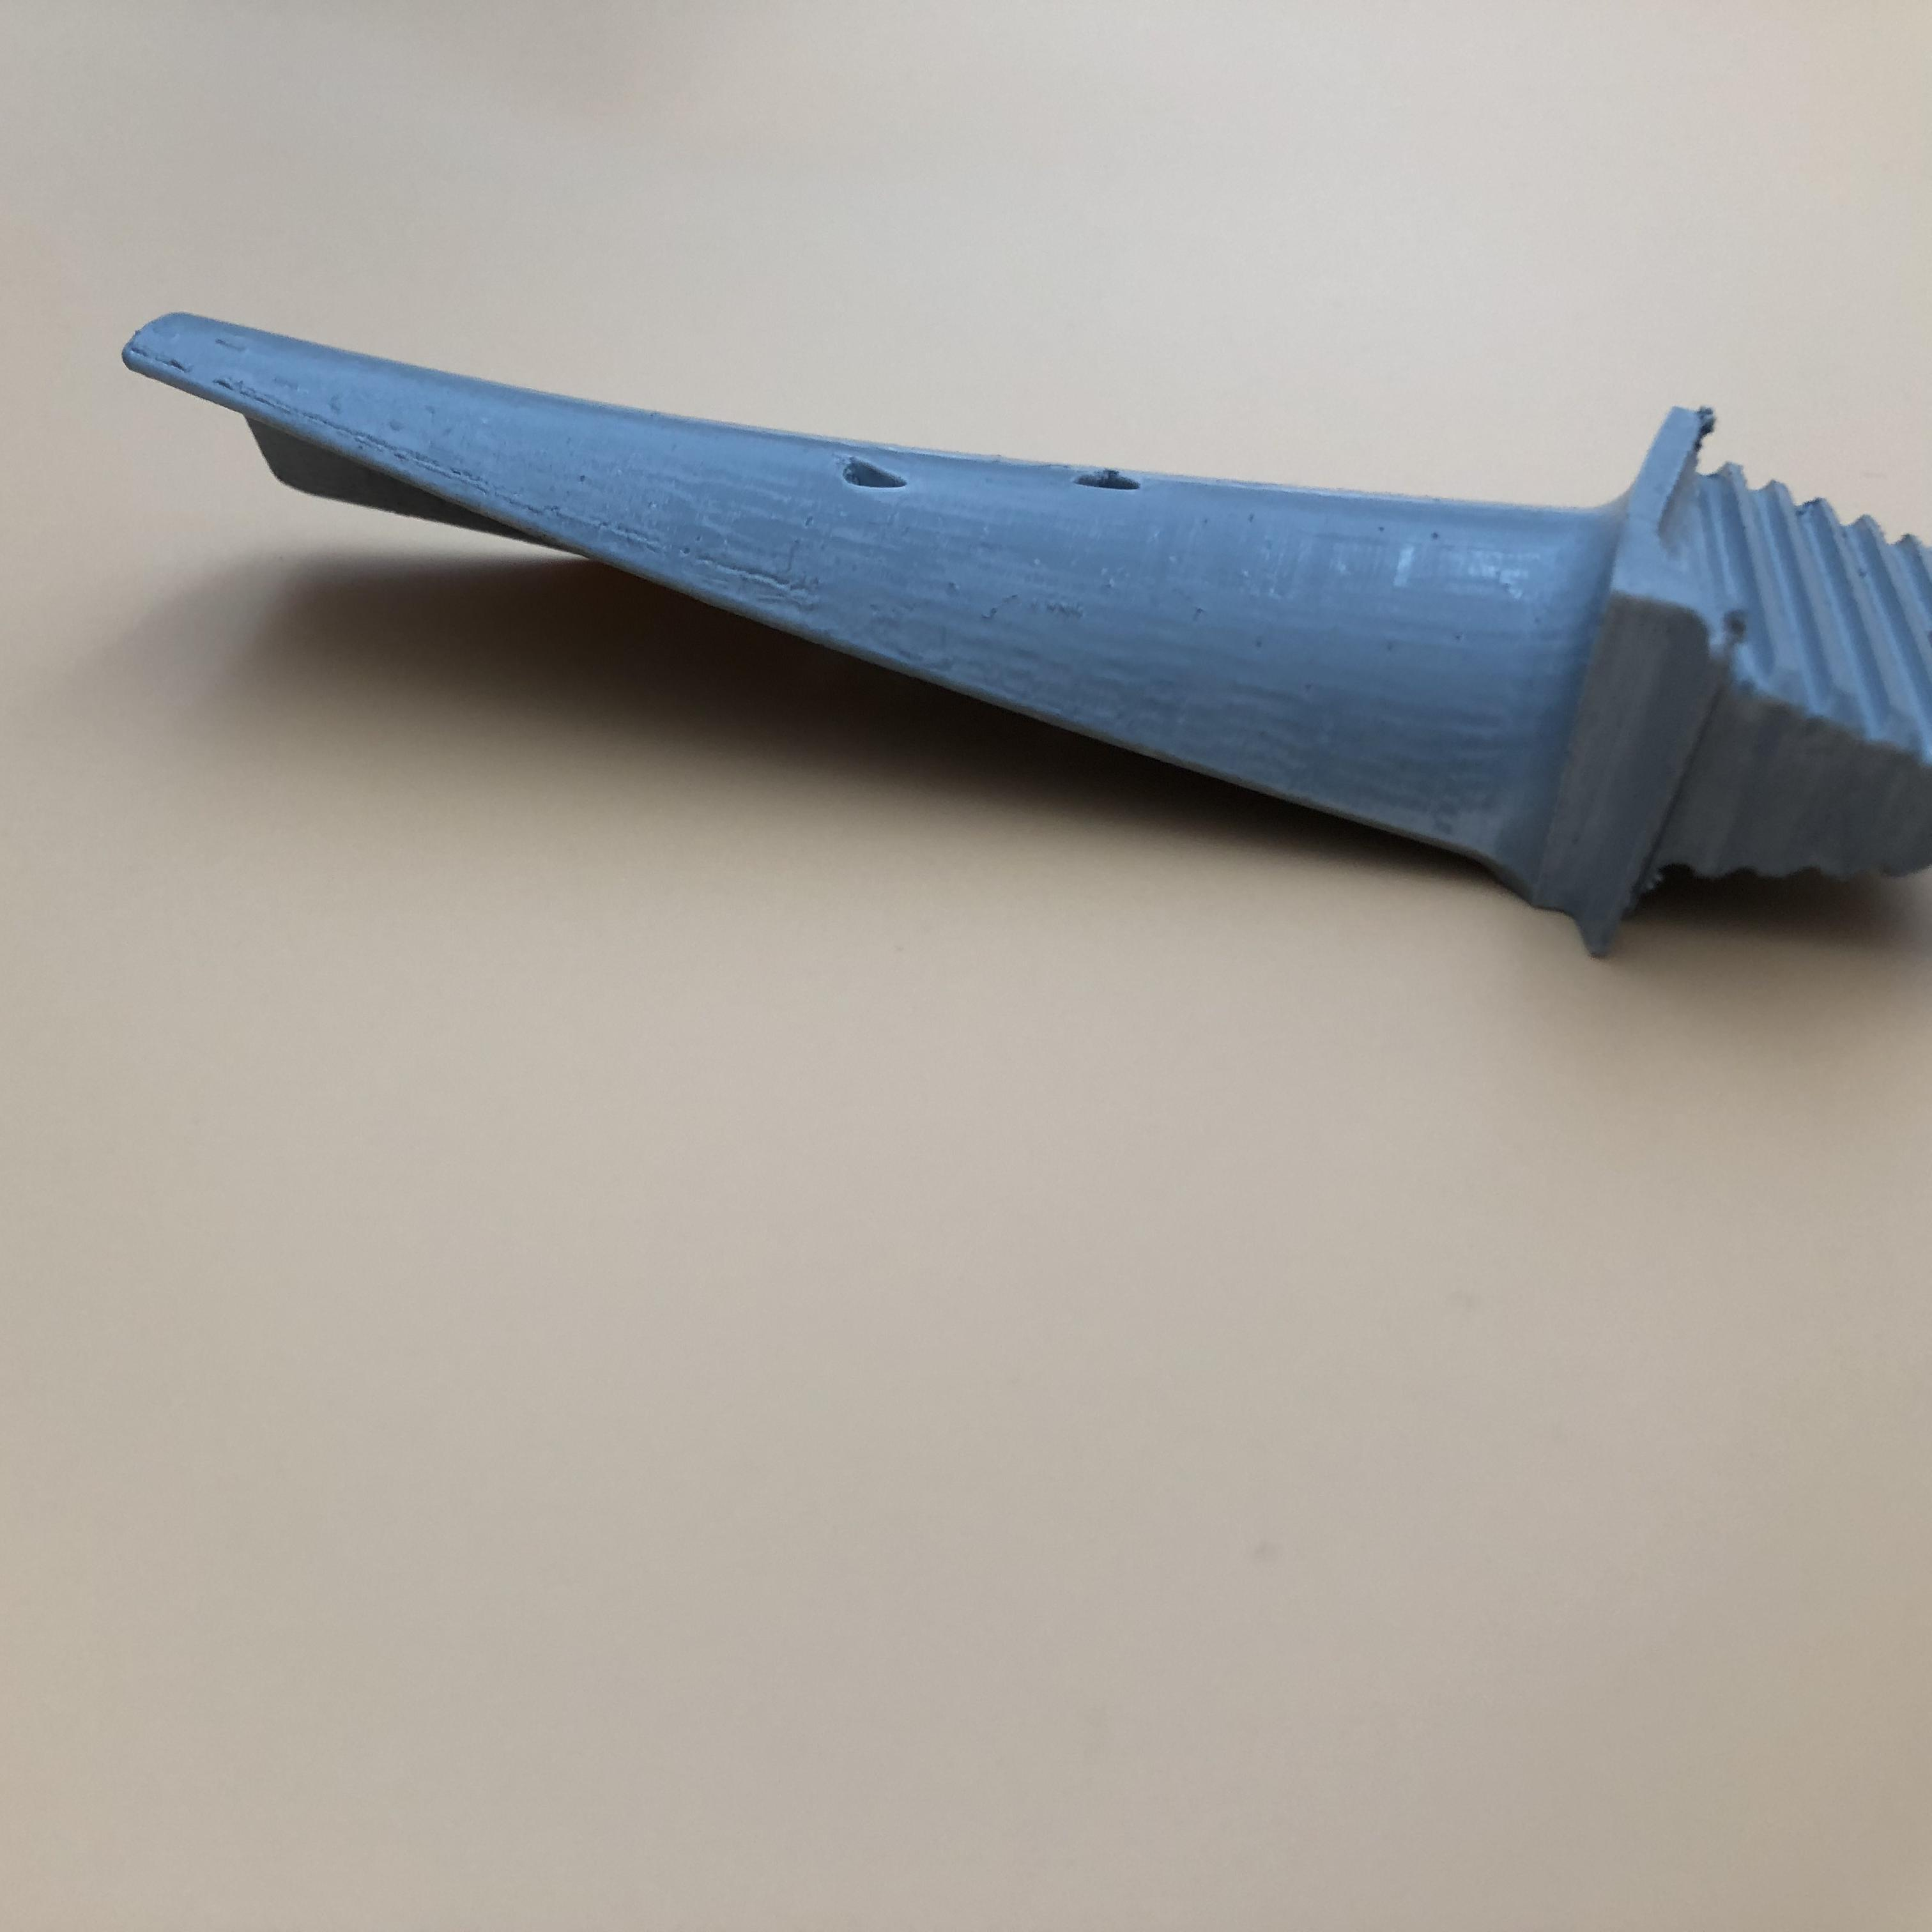breakdown: (830, 437, 916, 508), (1069, 460, 1169, 506)
